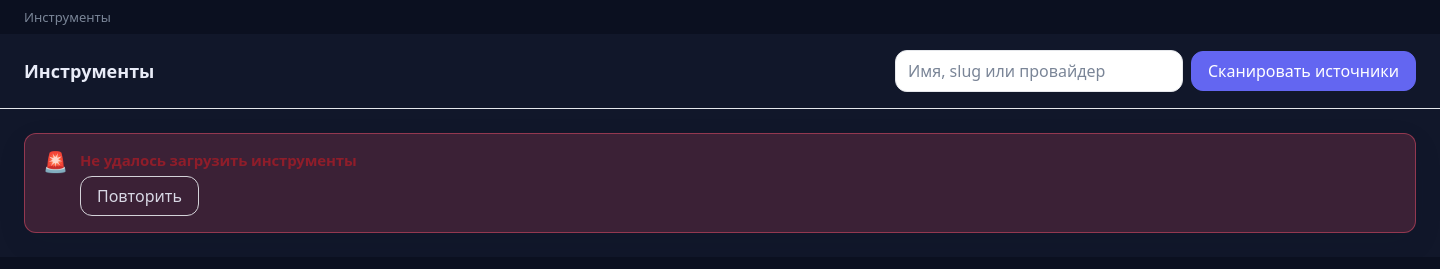
Test: tools registry › shows a retry action when loading the registry fails
expect the message shows "Не удалось загрузить инструменты": met, box [80,150,357,170]
Click the button "Повторить" at (140, 196), box [80,176,199,216]
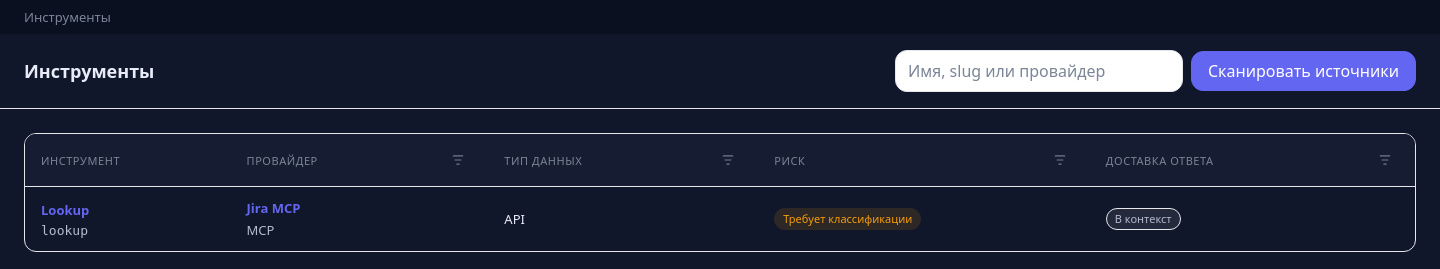
expect the link "Lookup" is shown: met, box [41,200,89,218]
